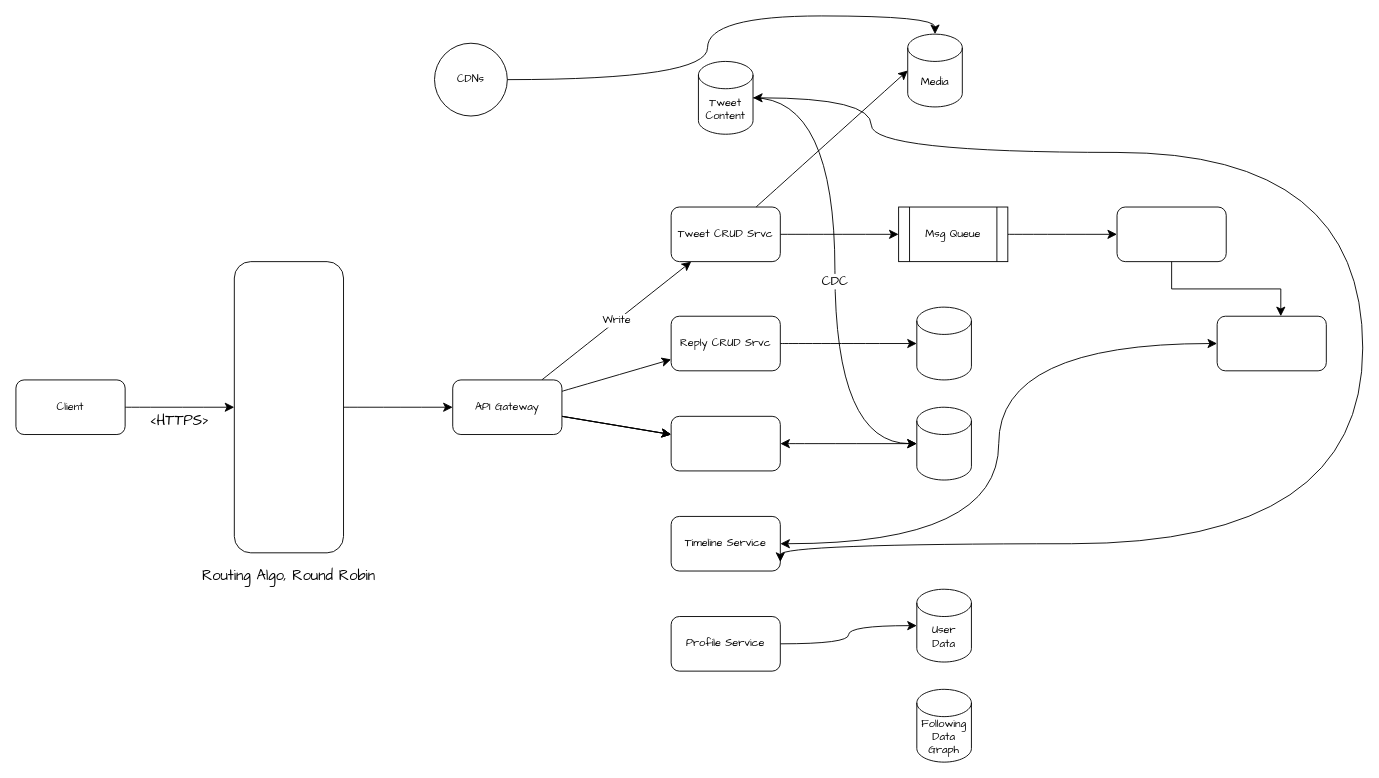
Some shapes in this 1379 by 778 pixel diagram are drawn without their labels. The box of each missing label's shape, as (x1, y1, x2, y2) in pixels:
elastic search: (916, 406, 971, 480)
Load Balancer: (233, 261, 344, 553)
Replies: (916, 306, 971, 380)
Search Service: (670, 415, 780, 471)
Timeline Cache: (1216, 315, 1326, 371)
Timeline Fanout: (1116, 206, 1226, 262)
